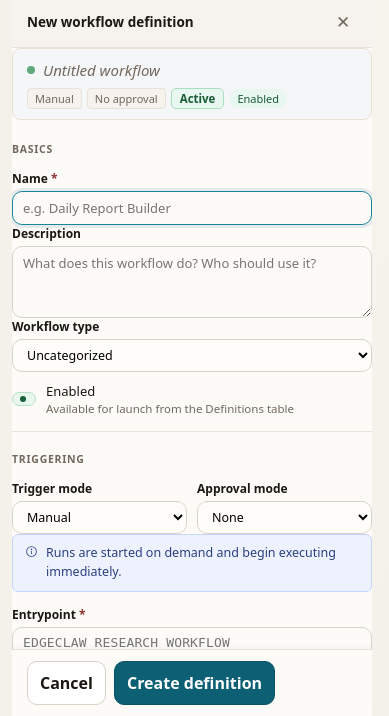
Test: Live preview card › shows the typed name in the preview card as the user types
The width and height of the screenshot is (389, 716).
Type "My Pipeline" into the field labelled "Name*" at {"x": 192, "y": 208}, box [12,191,372,225]
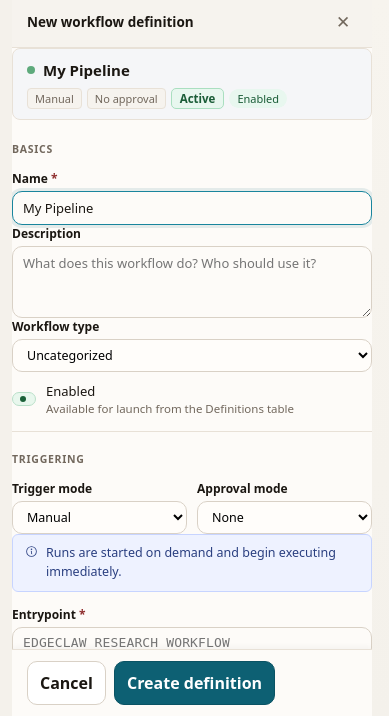
Check: the text "Untitled workflow" is gone
Check: the text "My Pipeline" is shown, box [43,61,130,80]
